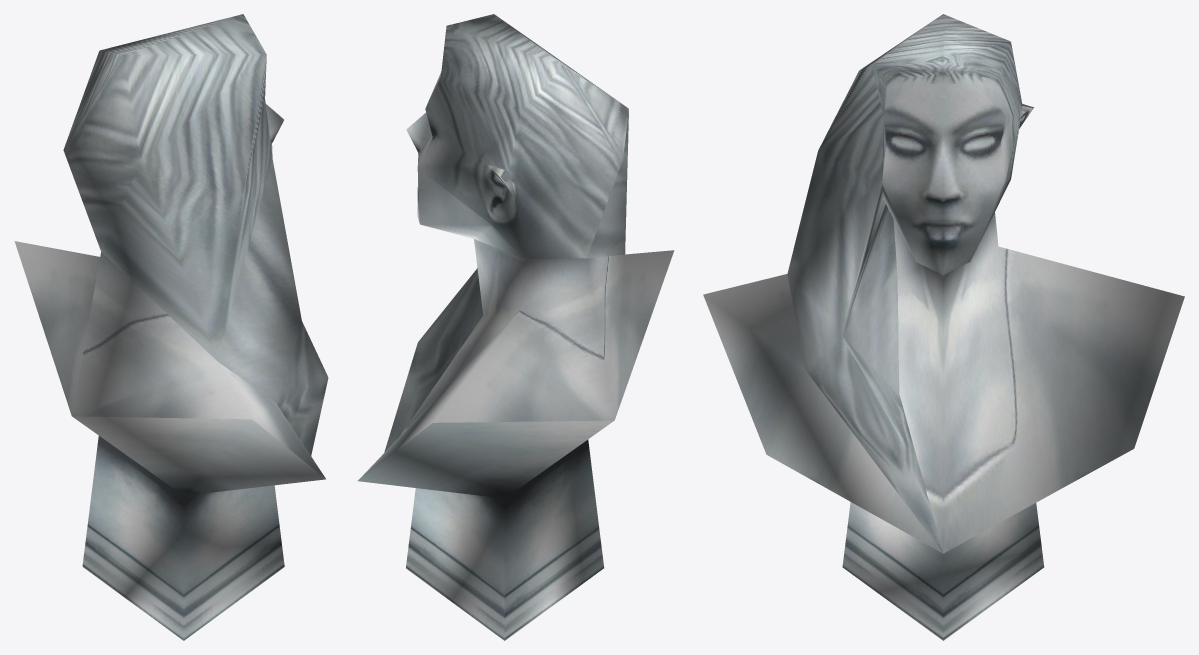
Rendered from busthf04.obj.
The picture shows the model from 3 angles, left to right: view 1: azimuth 30°, elevation 25°; view 2: azimuth 150°, elevation 25°; view 3: azimuth 270°, elevation 25°; orthographic projection.
Visible parts, largest first — view 1: busthf04; view 2: busthf04; view 3: busthf04.
Part boxes in pixels (box(x1,y1,x2,y2)): busthf04: box(14, 14, 328, 640); busthf04: box(358, 14, 674, 640); busthf04: box(703, 14, 1184, 640).
Size of the model in its own units: 0.2476 by 0.5397 by 0.4206.
Materials: 1 (1 with a texture image).
